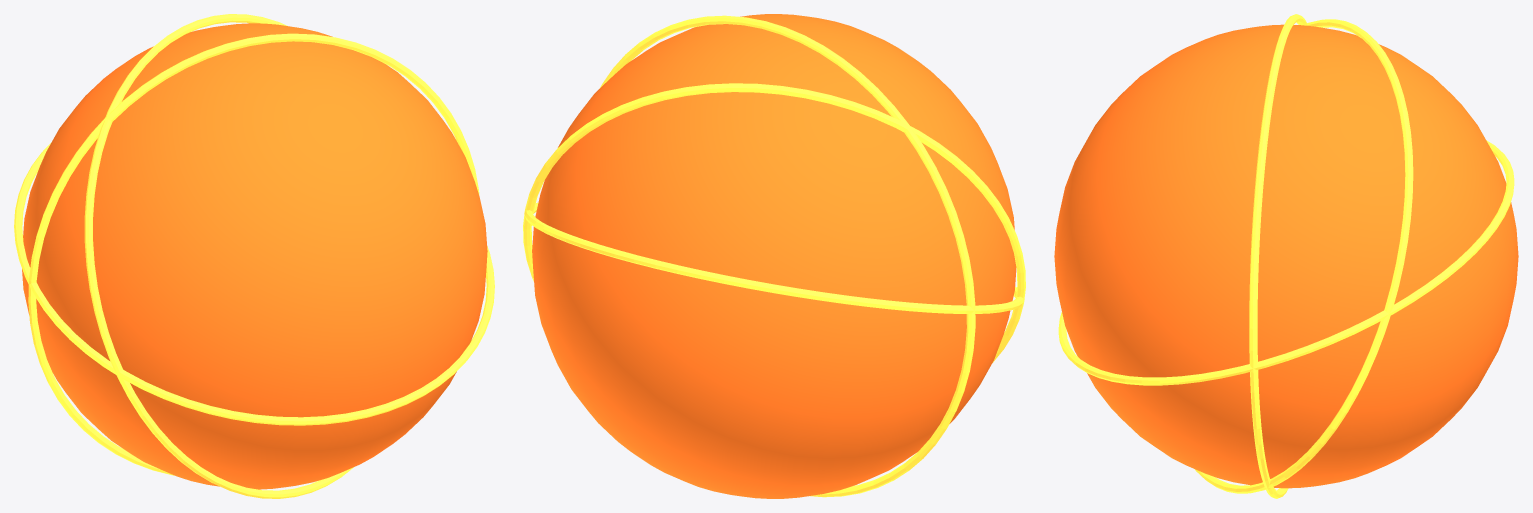
Rendered from fox-detailed-orb.glb.
3 renders of one model, left to right at view 1: azimuth 30°, elevation 25°; view 2: azimuth 150°, elevation 25°; view 3: azimuth 270°, elevation 25°, orthographic. The views are drawn at different scales.
Parts seen in each view (by area): view 1: Gliding orb, Orb energy ring.002, Orb energy ring.001, Orb energy ring; view 2: Gliding orb, Orb energy ring.002, Orb energy ring.001, Orb energy ring; view 3: Gliding orb, Orb energy ring.001, Orb energy ring, Orb energy ring.002.
Part boxes in pixels (<box>): Gliding orb: <box>22,23,487,489</box>; Orb energy ring.002: <box>28,33,479,475</box>; Orb energy ring.001: <box>84,14,353,498</box>; Orb energy ring: <box>14,142,494,425</box>; Gliding orb: <box>532,14,1016,498</box>; Orb energy ring.002: <box>600,15,975,497</box>; Orb energy ring.001: <box>523,83,1025,362</box>; Orb energy ring: <box>524,202,1024,313</box>; Gliding orb: <box>1054,24,1518,488</box>; Orb energy ring.001: <box>1194,19,1413,493</box>; Orb energy ring: <box>1058,140,1514,385</box>; Orb energy ring.002: <box>1249,14,1307,498</box>.
Size of the model in its own units: 1.51 by 1.51 by 1.44.
